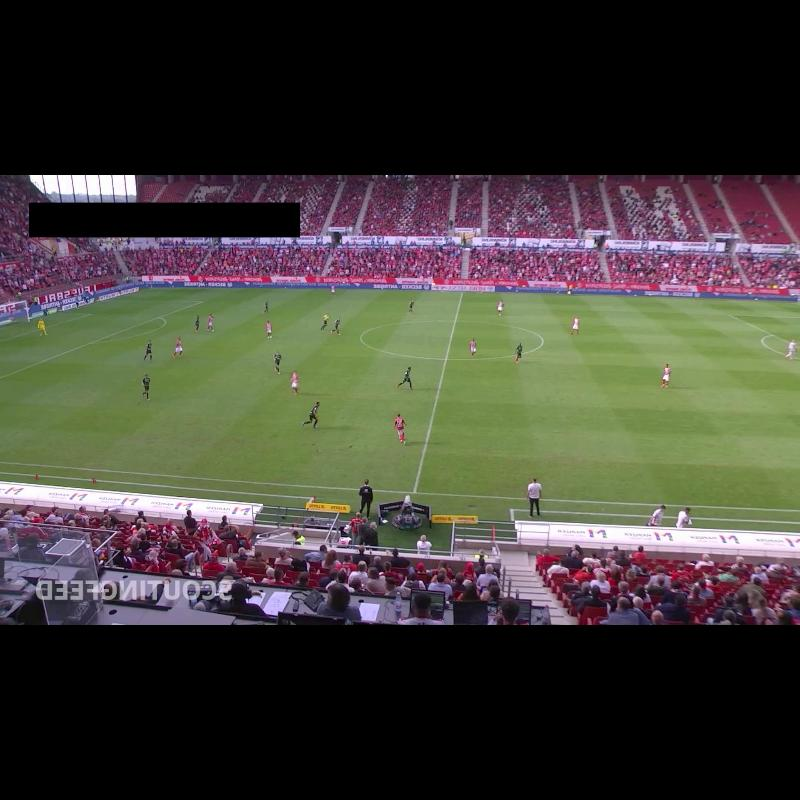cross_recipient_zone: (0, 301, 203, 378), (730, 315, 800, 350)
crossing_player_zone: (0, 379, 90, 430), (641, 299, 800, 316), (108, 288, 290, 301)
pitch: (0, 288, 800, 510)
